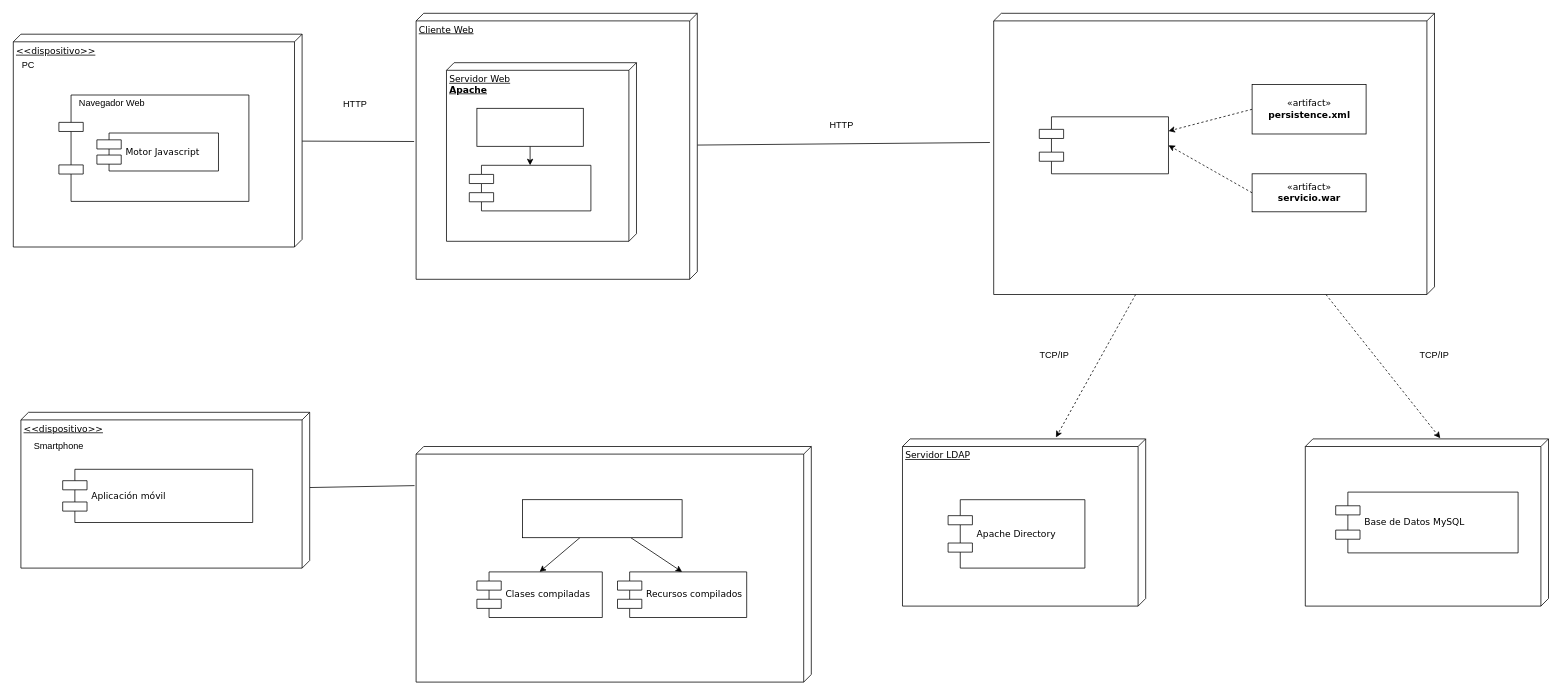
The diagram is 1562 pixels wide and 695 high, and some of its shapes have lost their labels. Each missing label, with the box of its shape:
Cliente Movil: (415, 446, 811, 682)
Presentación Web: (469, 165, 591, 211)
Servicios: (1039, 116, 1168, 174)
Servidor: (993, 13, 1434, 294)
Servidor de Base de Datos: (1305, 438, 1548, 606)
«artifact» .htaccess: (476, 108, 583, 146)
«artifact» manifest.xml: (522, 499, 682, 538)
